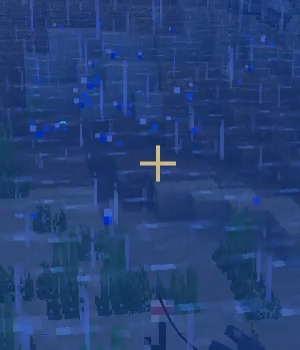down: (141, 293, 177, 350)
